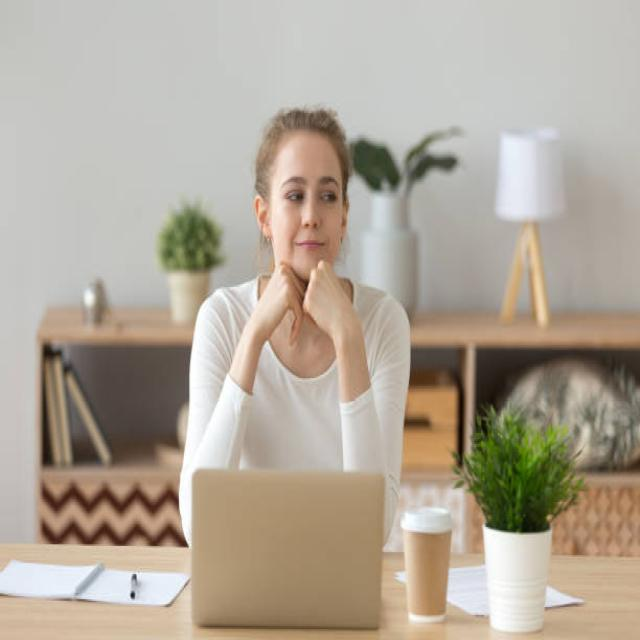Distracted: (270, 140, 344, 280)
